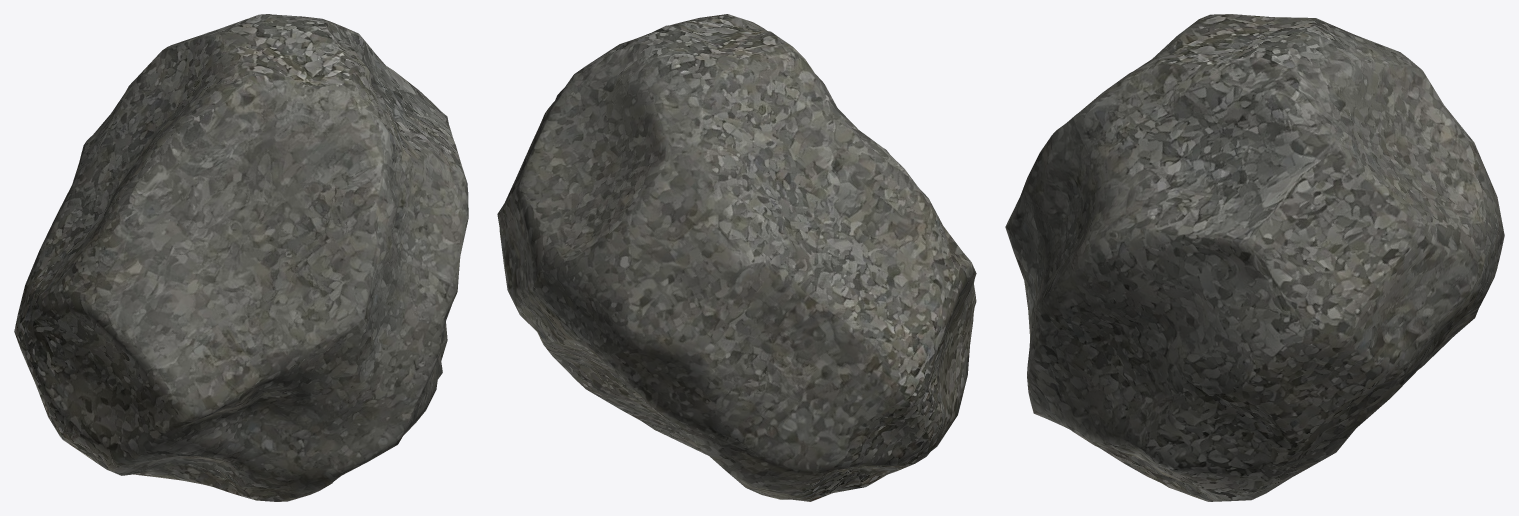
File: boulder.glb
3 views of the same model, side by side, from view 1: azimuth 30°, elevation 25°; view 2: azimuth 150°, elevation 25°; view 3: azimuth 270°, elevation 25° (orthographic). The views are drawn at different scales.
Parts seen in each view (by area): view 1: tripo_node_8aba7968; view 2: tripo_node_8aba7968; view 3: tripo_node_8aba7968.
Boxes of the visible parts, box(x1,y1,x2,y2) form: tripo_node_8aba7968: box(14, 14, 468, 501); tripo_node_8aba7968: box(497, 14, 976, 501); tripo_node_8aba7968: box(1005, 14, 1504, 501).
Size of the model in its own units: 97.25 by 97.31 by 92.2.
1 material, 1 textured.
